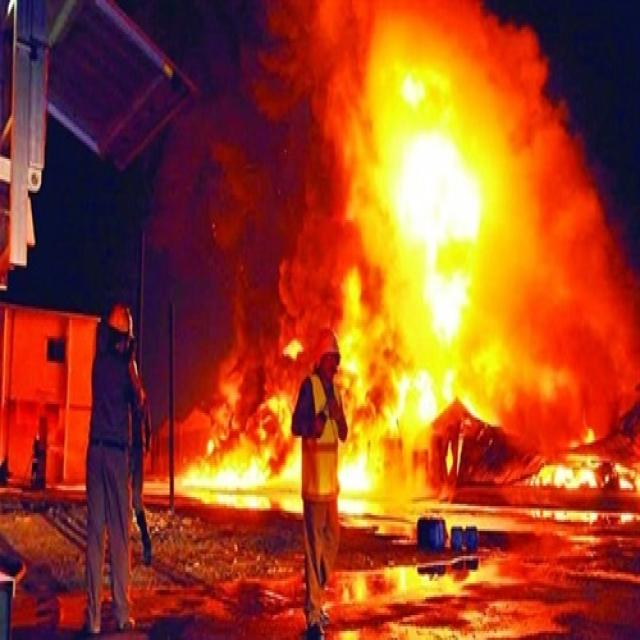fire: (375, 55, 494, 516), (527, 356, 640, 564), (192, 354, 261, 557)
person: (266, 323, 356, 640), (82, 300, 152, 632)
